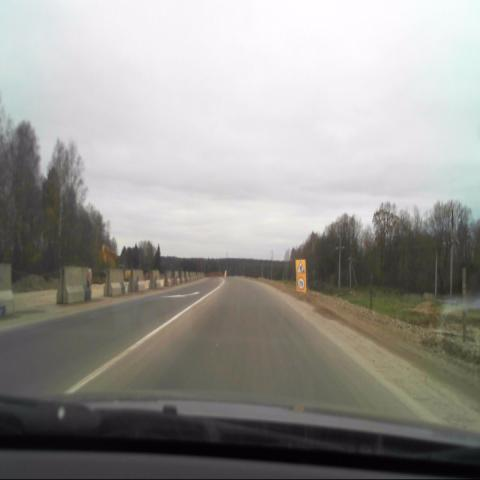1_25: (296, 260, 306, 275)
3_24: (297, 276, 305, 290)
